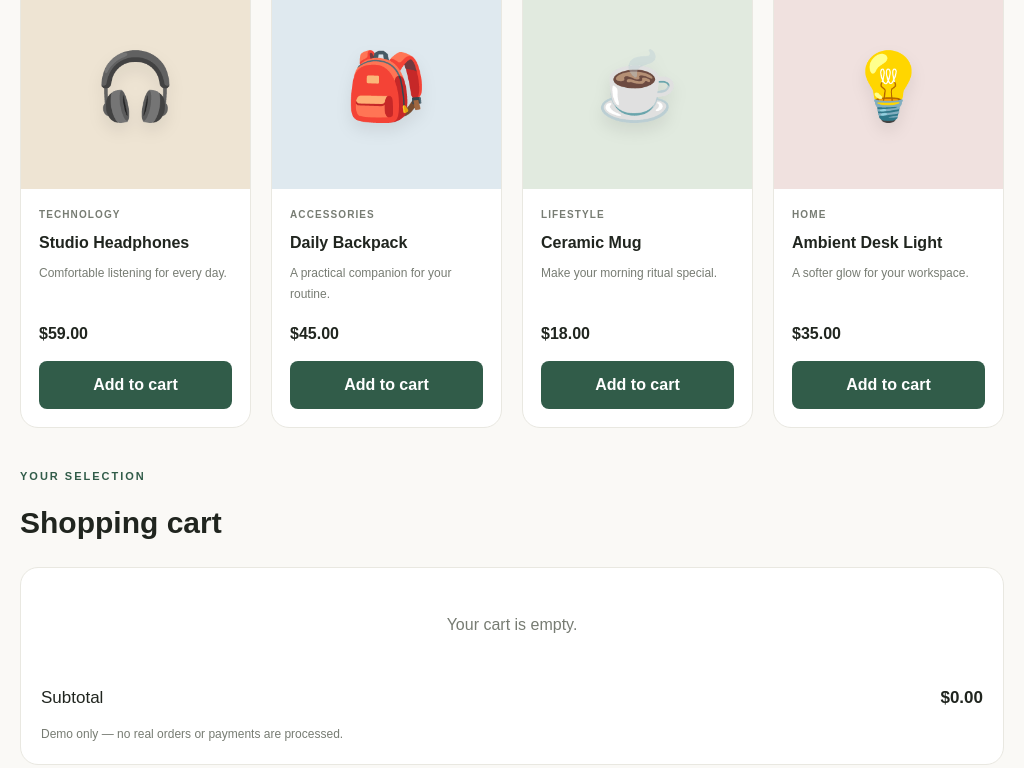
ShopFlow React storefront › adds a product and updates the cart count
(page scrolled)
Expected: the heading "Studio Headphones" is shown, left=39, top=234, right=189, bottom=251
Click the button "Add to cart" below "$59.00".
click(136, 385)  # box left=39, top=361, right=232, bottom=409
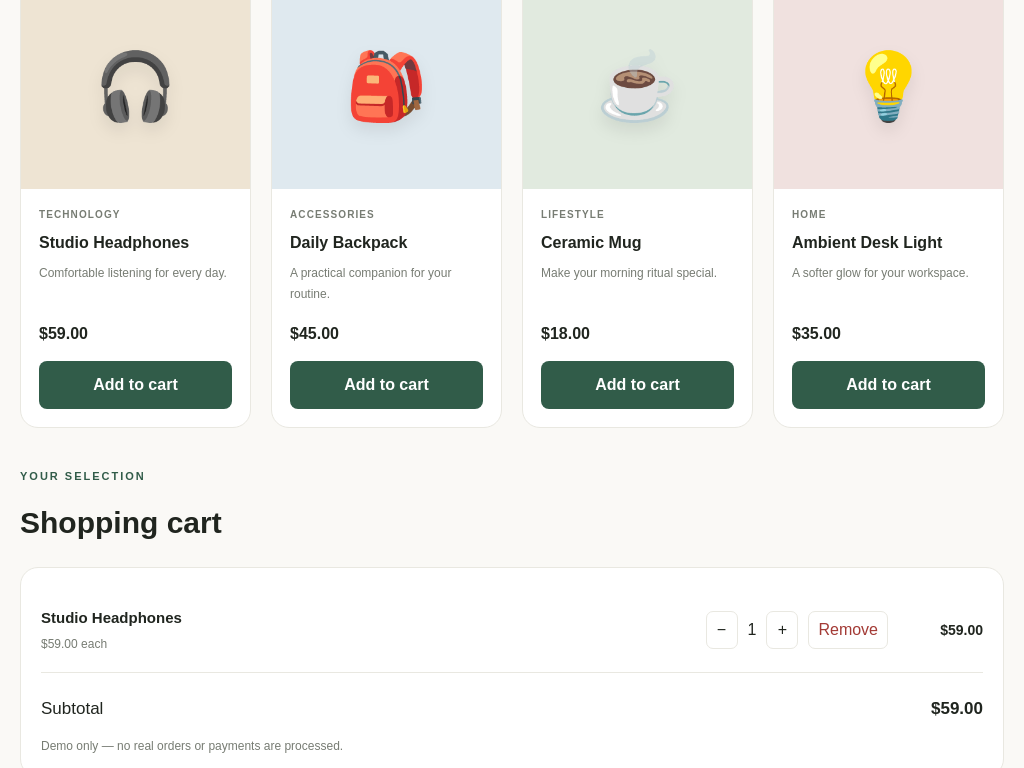
Expected: the heading "Studio Headphones" below "Shopping cart" is shown, left=41, top=609, right=182, bottom=626
Expected: the text "$59.00" is shown 2 times, left=940, top=622, right=983, bottom=638; left=931, top=695, right=983, bottom=723
